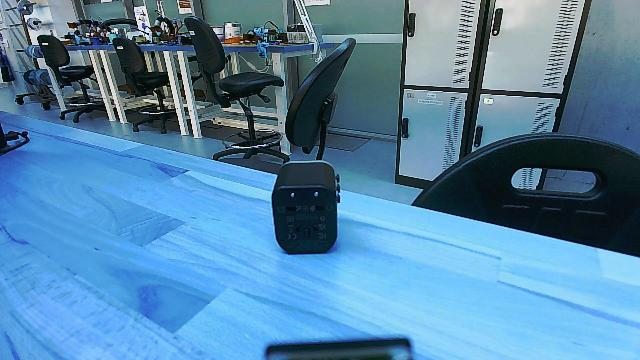adapter: (266, 158, 350, 260)
